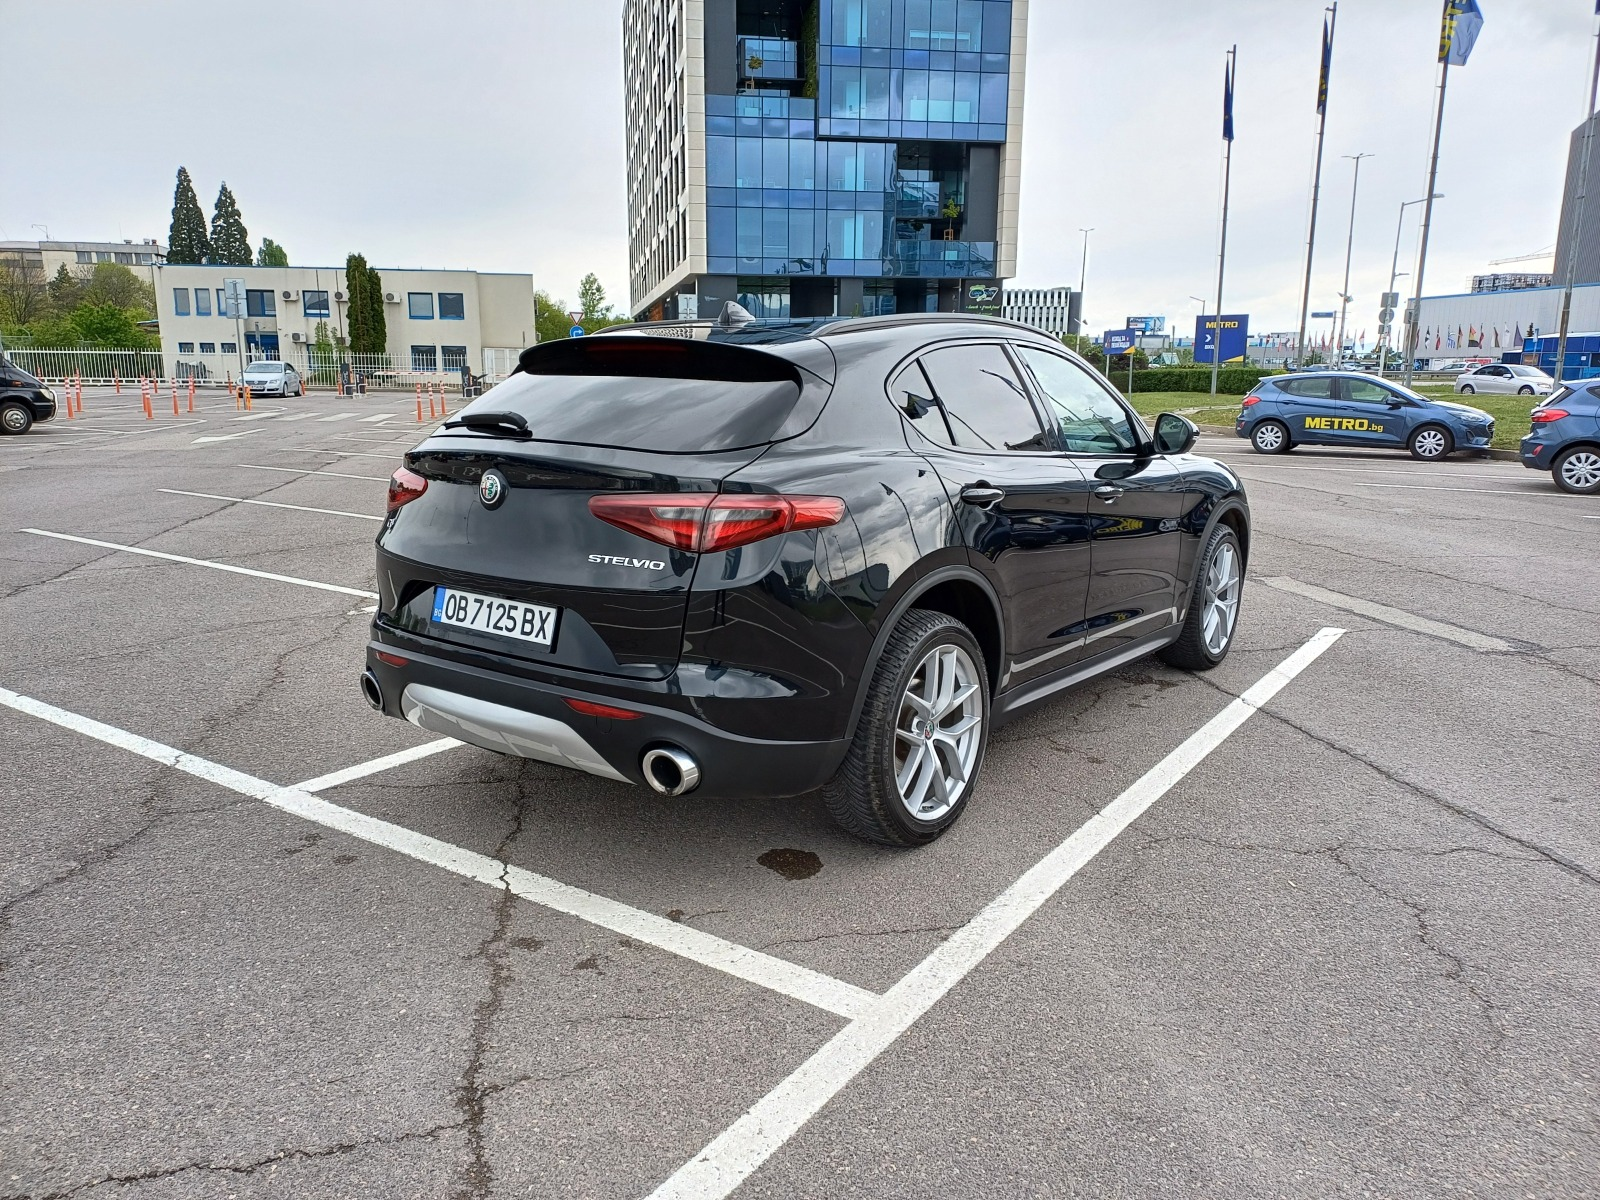registration_plate: (433, 588, 563, 660)
